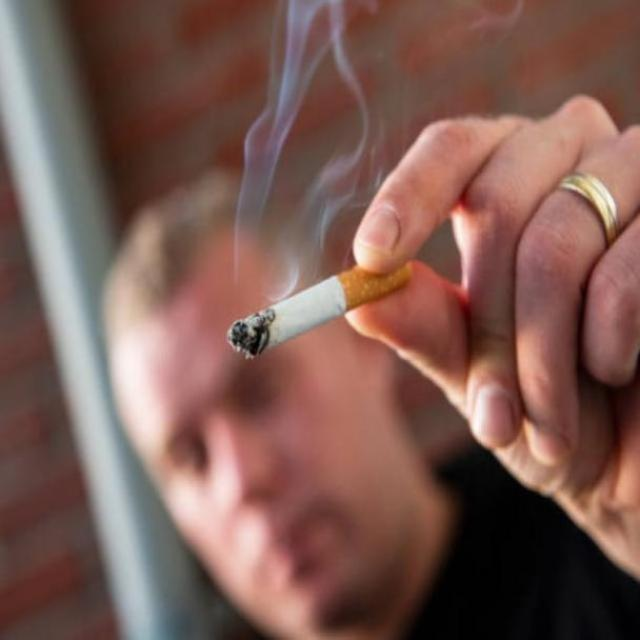rokok: (224, 248, 416, 356)
